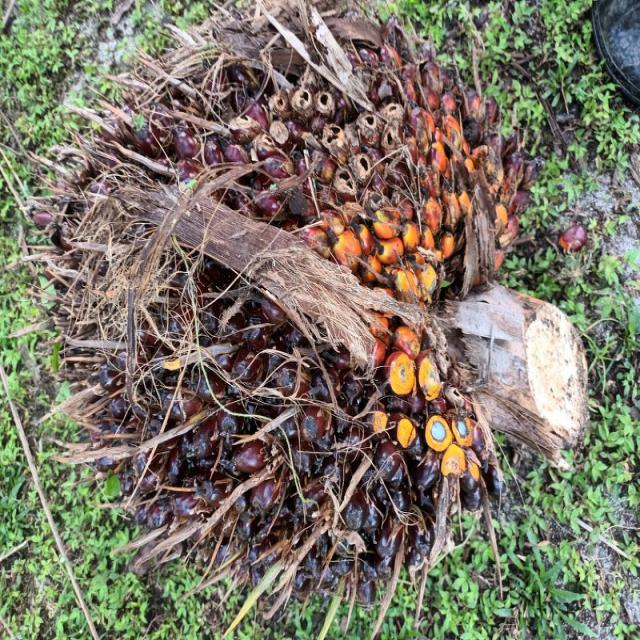fraksi 00: (22, 27, 479, 640)
